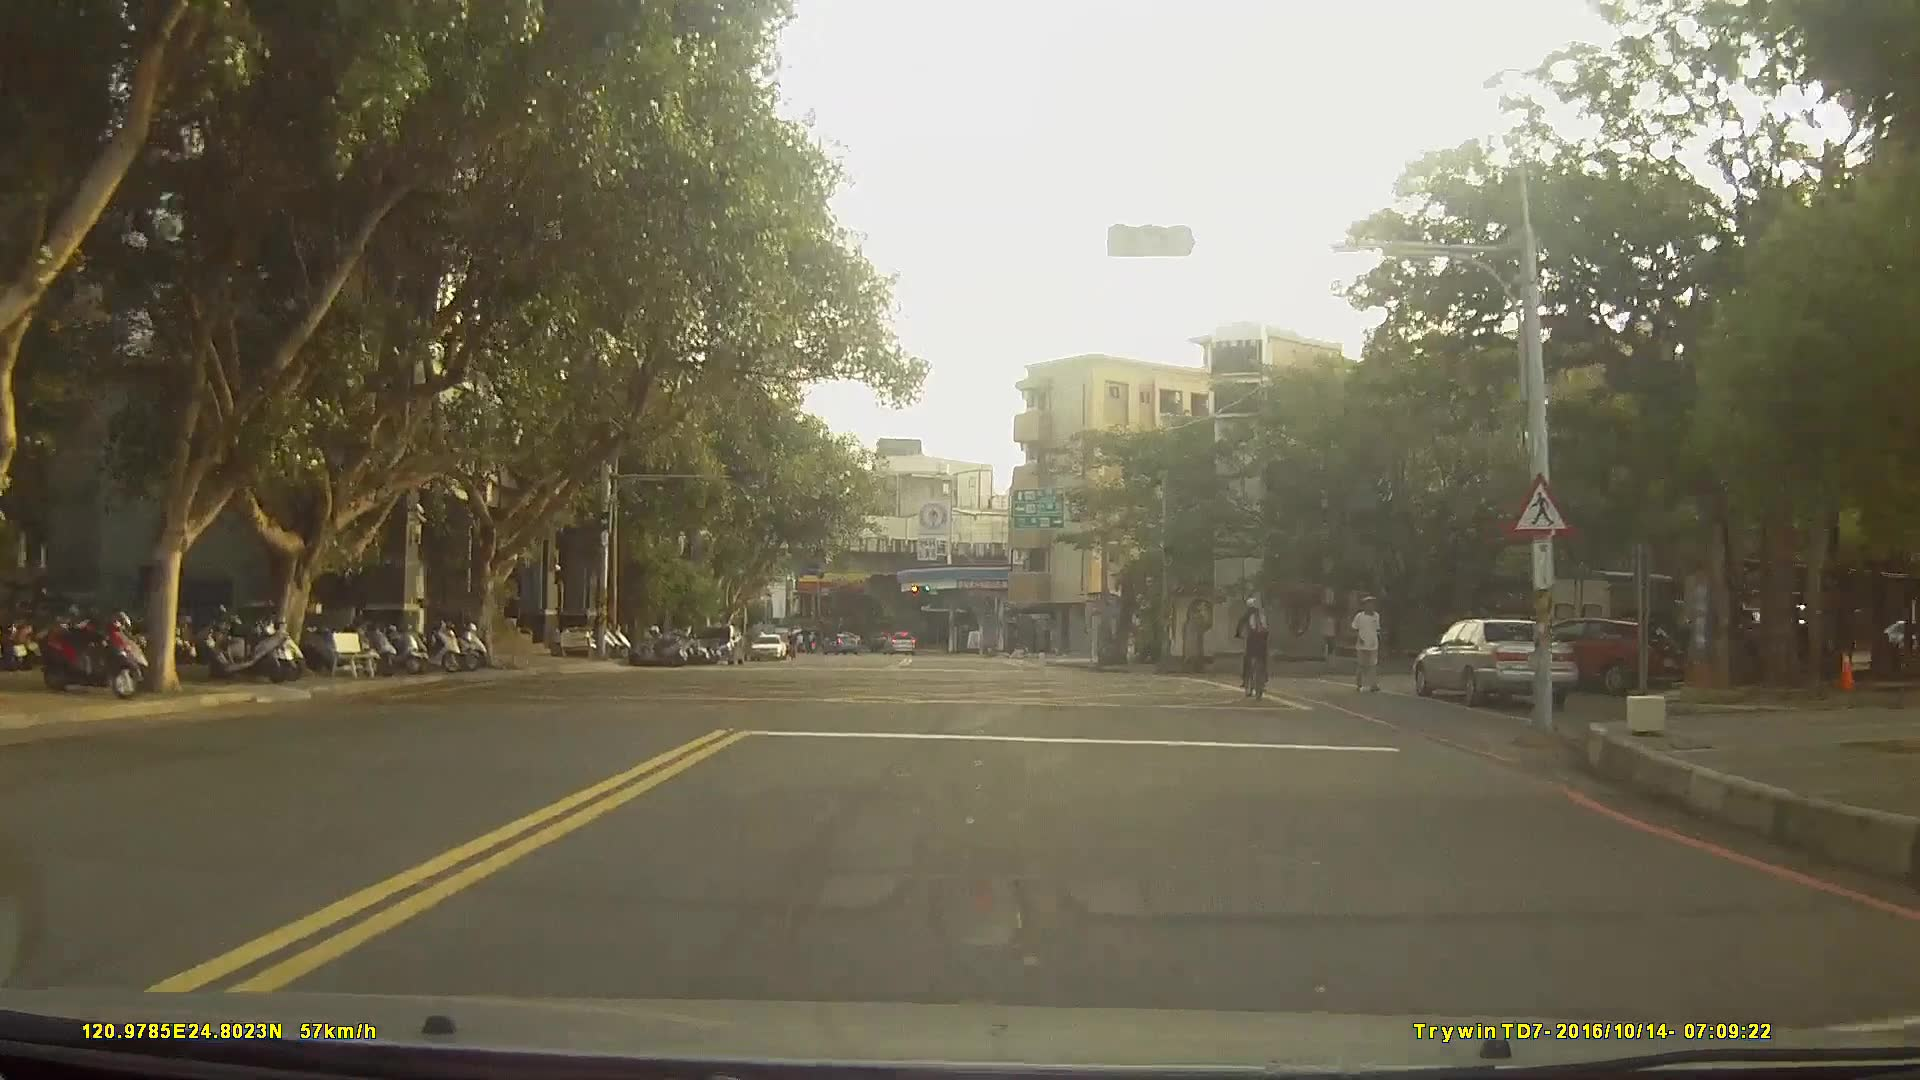pedestrian: (1349, 594, 1390, 703), (502, 597, 522, 647)
rider: (1233, 600, 1278, 704)
vehicle: (1413, 616, 1579, 707), (1514, 616, 1658, 694), (690, 621, 744, 665), (750, 627, 786, 659), (882, 629, 915, 654)
